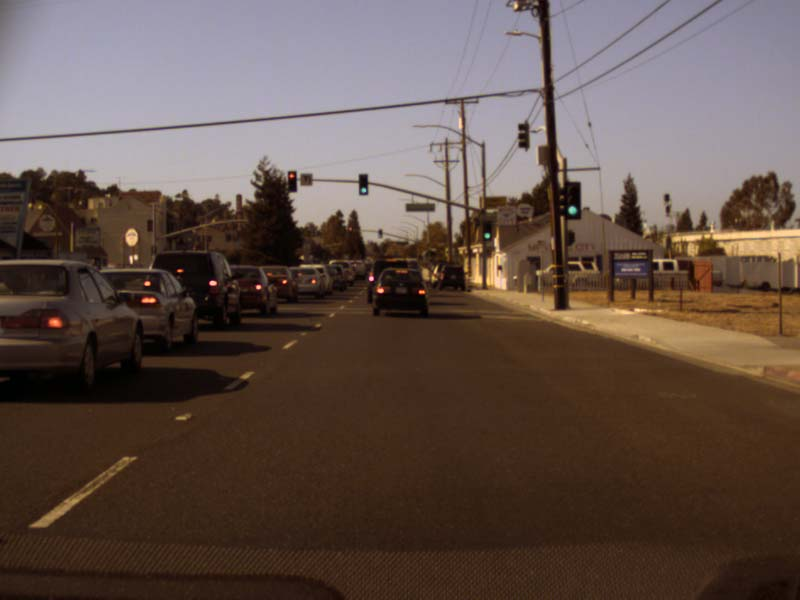Green: (566, 183, 580, 217), (358, 174, 367, 195), (482, 219, 491, 240), (377, 228, 381, 237)
Red: (288, 171, 295, 191), (348, 225, 352, 231)
